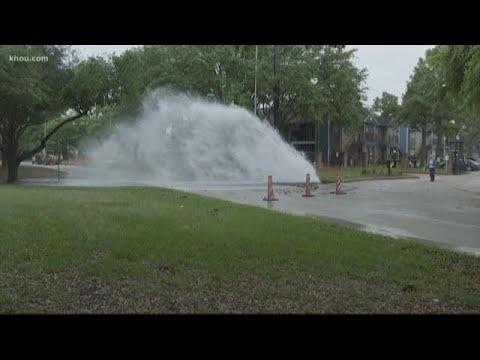pipe burst: (71, 96, 323, 183)
